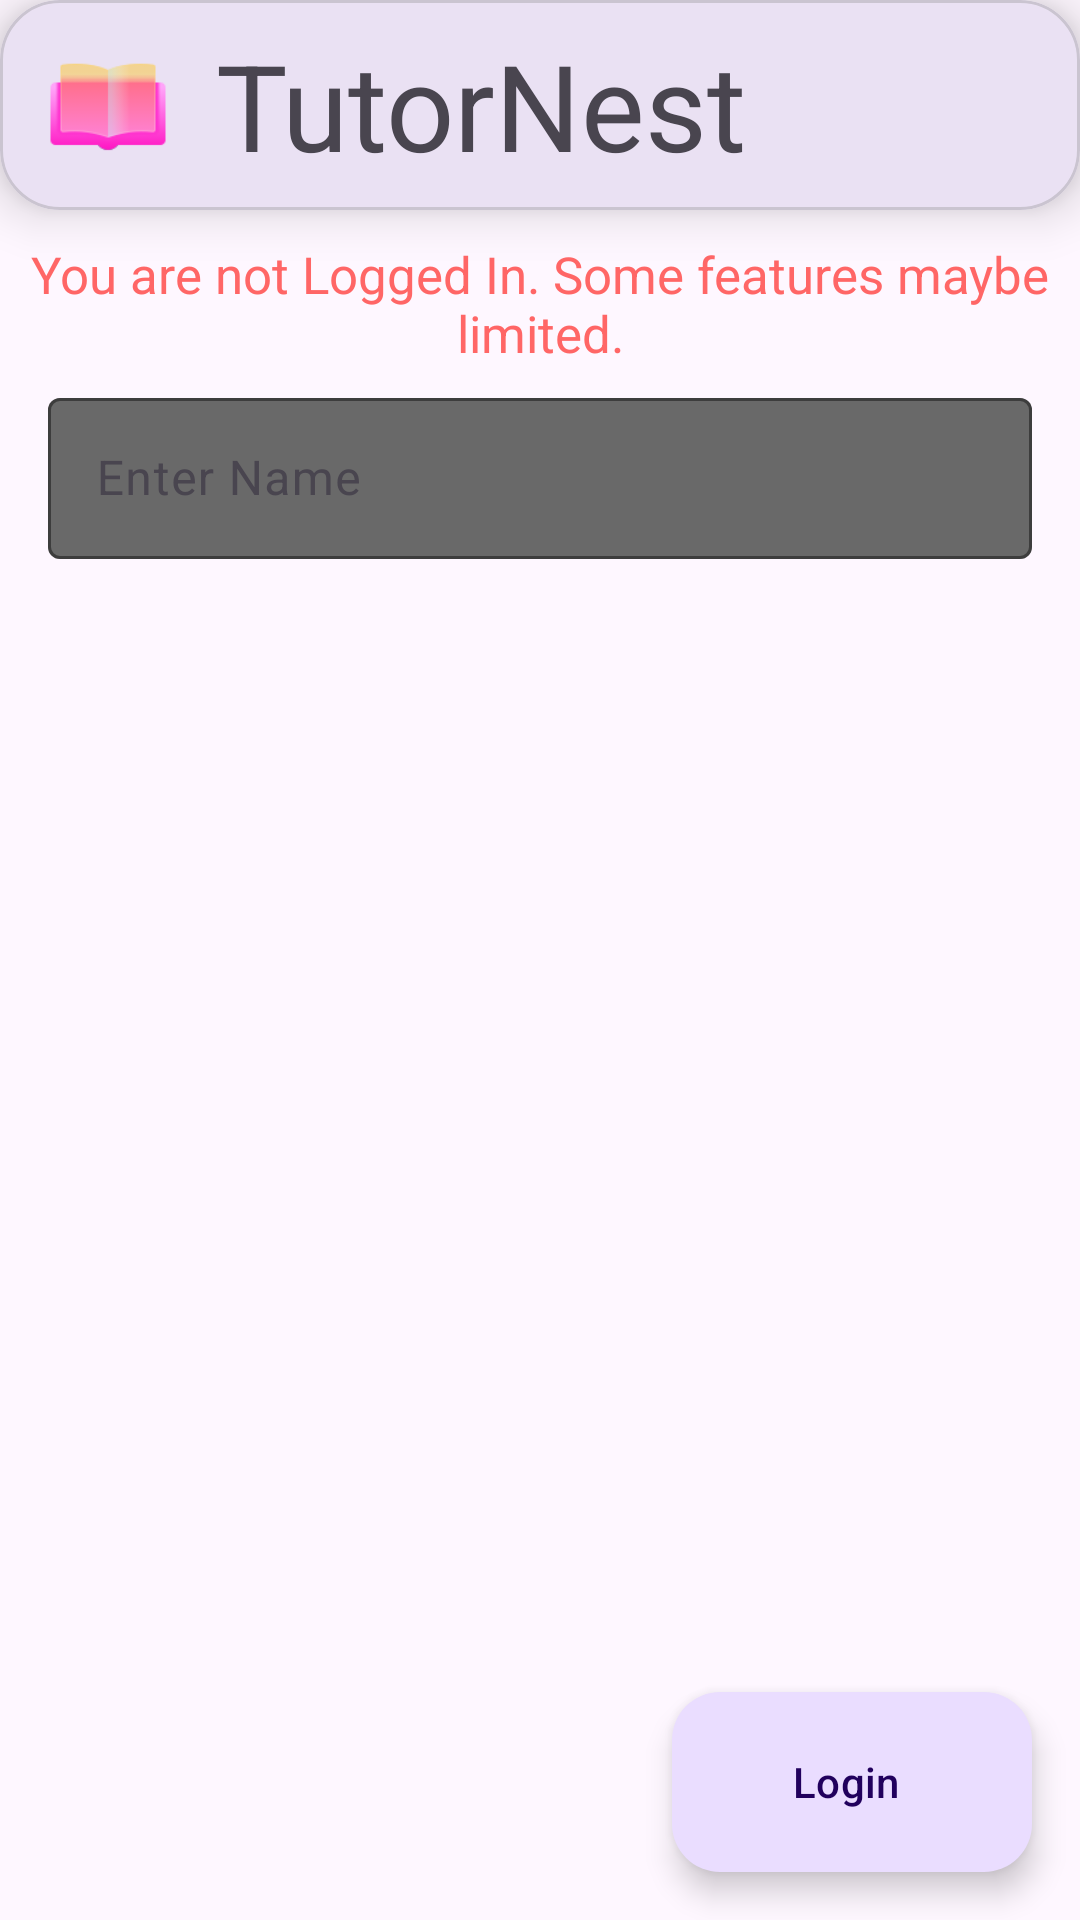

Icons on this 1080w x 1920h Android screen, each with its box as detection(x1, y1, x2, y2):
open book: detection(50, 63, 166, 150)
